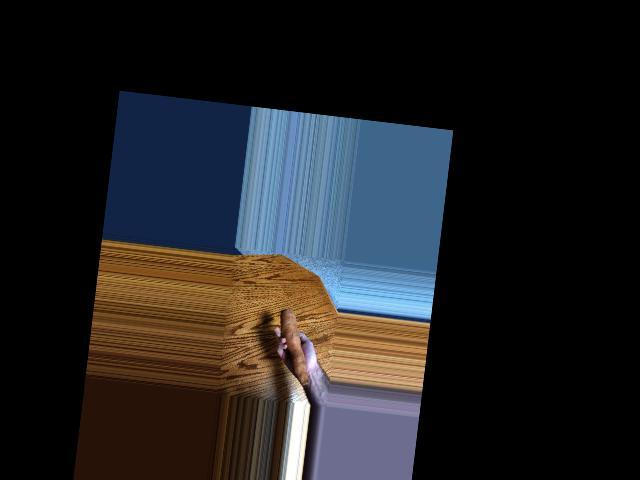sweet_potato: (277, 310, 317, 386)
